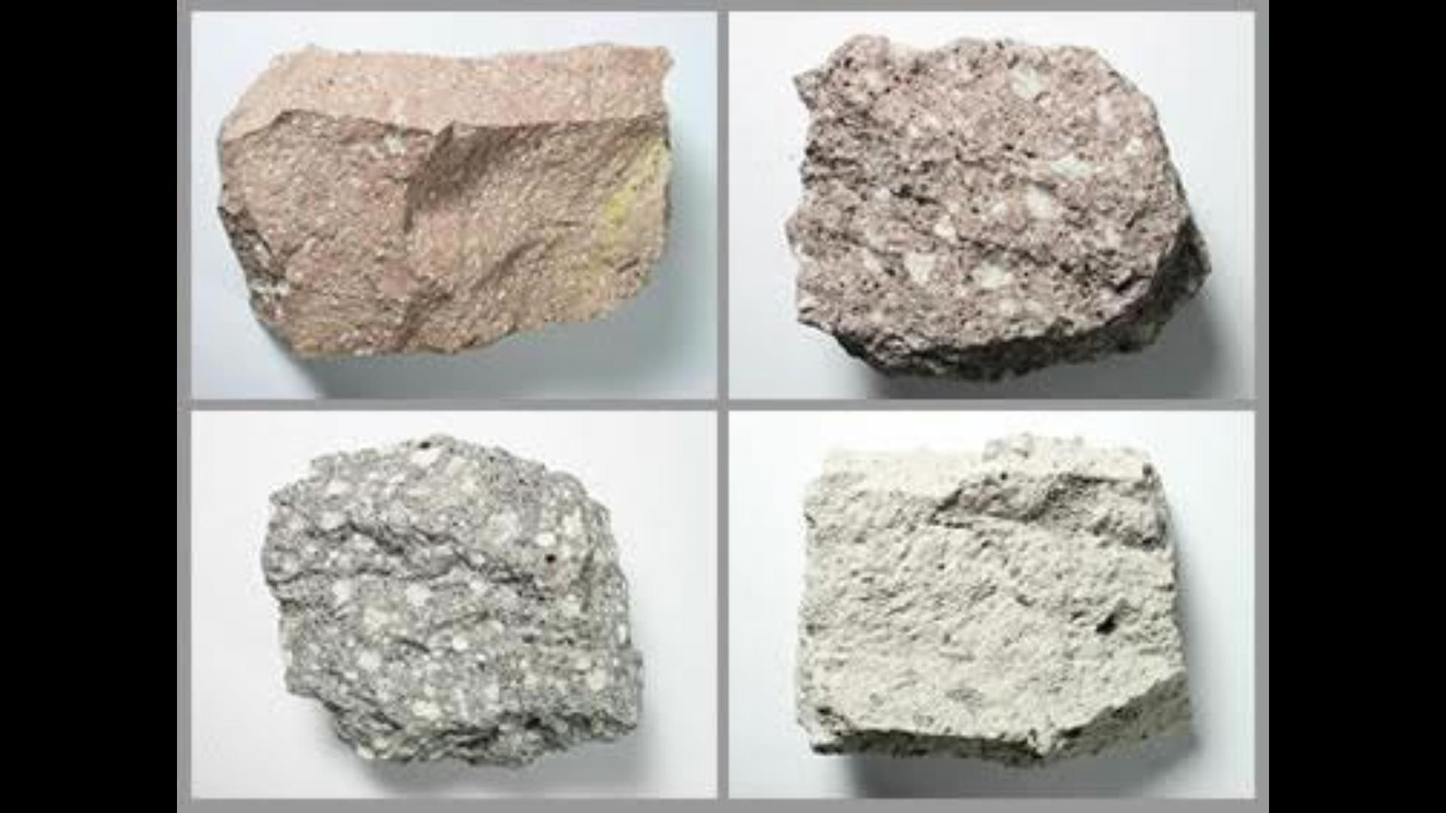rock: (786, 34, 1206, 376), (217, 46, 668, 353), (798, 437, 1186, 764), (263, 437, 640, 761)
